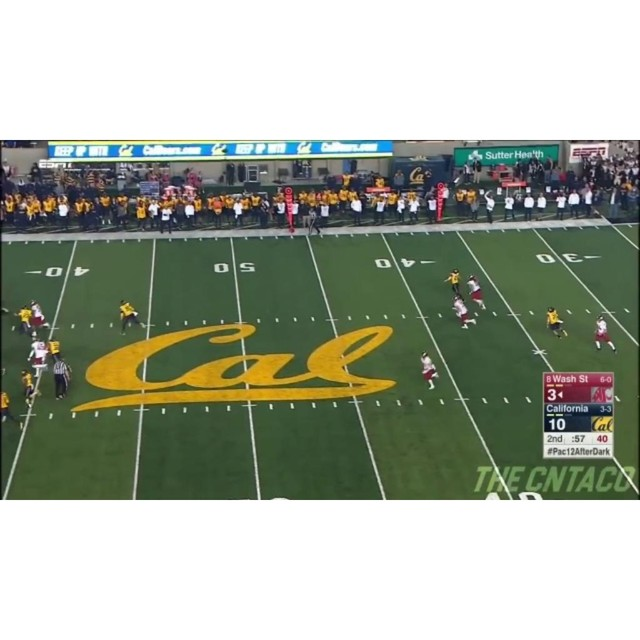american-football-player: (118, 299, 144, 336), (594, 314, 617, 354), (20, 368, 40, 411), (452, 295, 476, 329), (419, 351, 439, 390), (545, 308, 568, 340), (467, 275, 486, 310), (30, 299, 49, 331), (443, 268, 462, 296)
referee: (52, 356, 72, 400)
